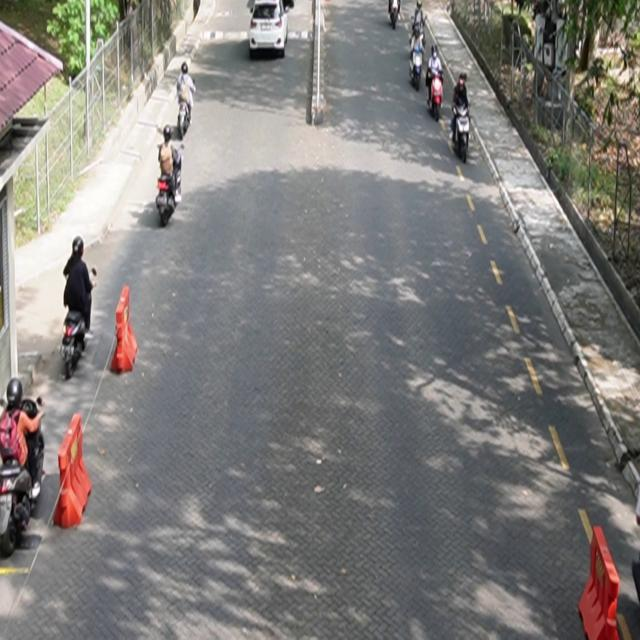car: (249, 1, 290, 59)
